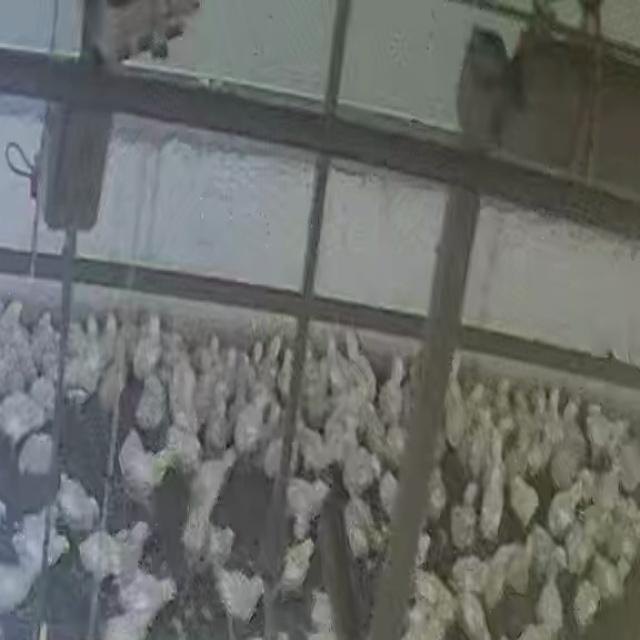chicken: (179, 450, 238, 560), (100, 563, 173, 636), (118, 427, 176, 508), (211, 558, 267, 627), (53, 471, 104, 535), (283, 473, 330, 541), (230, 392, 274, 459), (10, 509, 52, 579), (75, 526, 129, 579), (0, 389, 49, 447), (161, 416, 205, 475), (130, 310, 166, 382), (544, 480, 584, 542), (134, 369, 171, 433), (279, 536, 319, 593), (341, 438, 378, 498), (342, 494, 377, 554), (532, 574, 566, 634), (16, 430, 56, 481), (453, 588, 490, 639), (585, 552, 619, 602), (304, 590, 338, 638), (571, 576, 600, 628), (612, 439, 640, 492), (448, 501, 478, 548), (28, 374, 58, 416), (377, 468, 401, 520)
